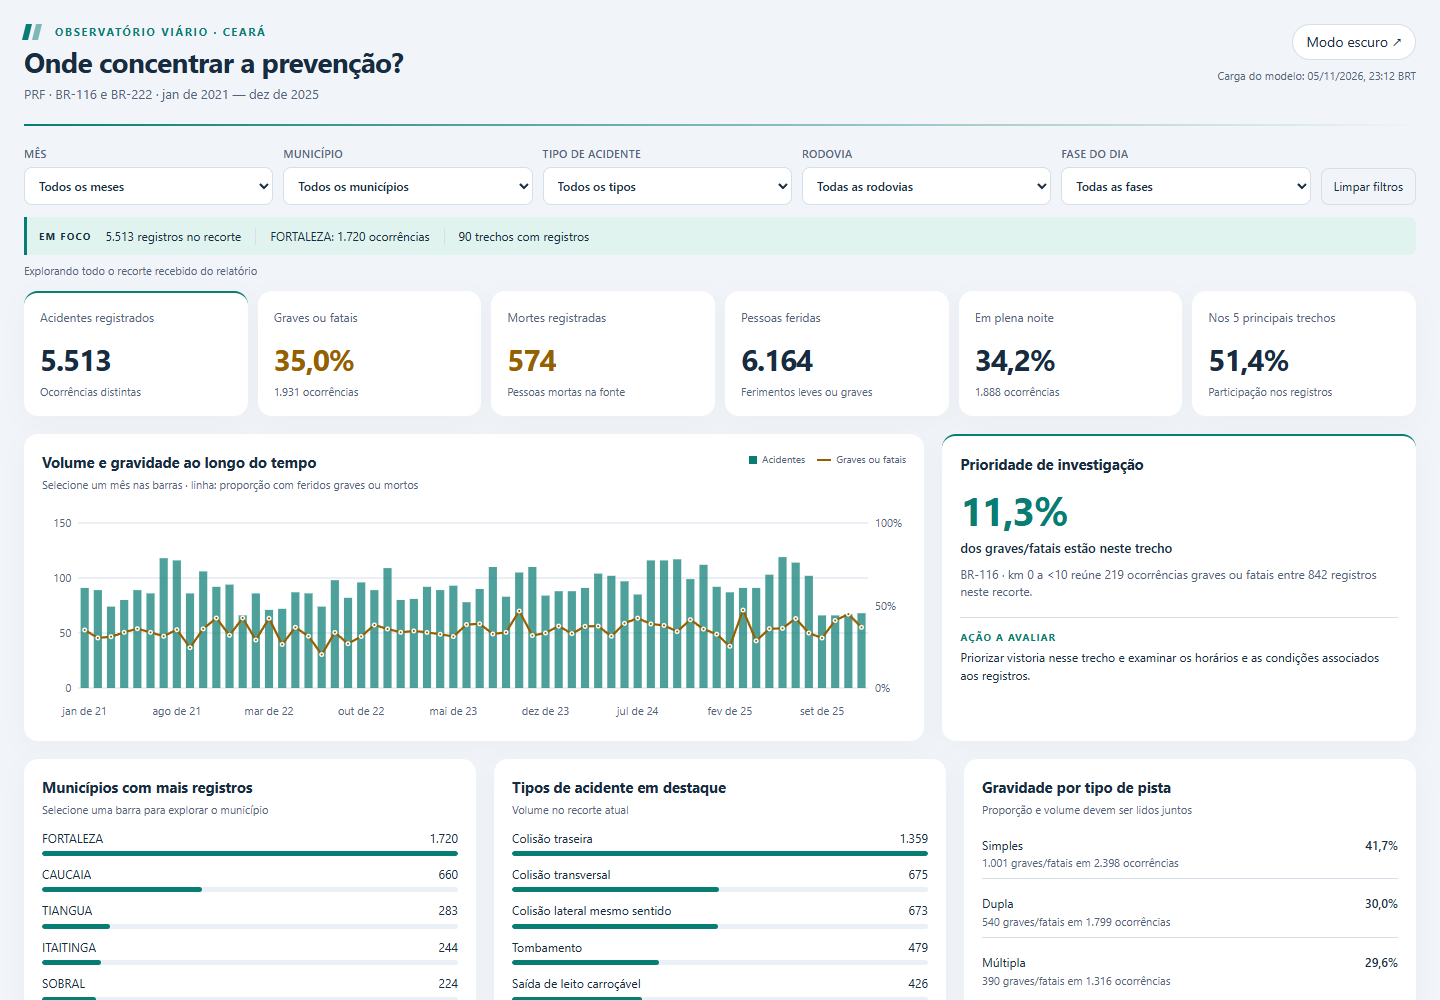

This screenshot's page, from the dashboard's own definition file:
{"tool":"powerbi","page":{"name":"Página 2","canvas":[1280,720],"ordinal":1},"visuals":[{"type":"htmlContent443BE3AD55E043BF878BED274D3A6855","fields":{"content":["fAcidentes.HTML Dashboard PRF"]},"box":[0,0,1279.8,720.2],"z":0}]}

Visuals, with their boxes on the page's 1280x720 design canvas (x1, y1, x2, y2). These are canvas units, not pixel positions in the 1440x1000 screenshot, which may show the page scaled, cropped or inside an application window:
htmlContent443BE3AD55E043BF878BED274D3A6855 - fAcidentes.HTML Dashboard PRF: bbox=(0, 0, 1280, 720)
